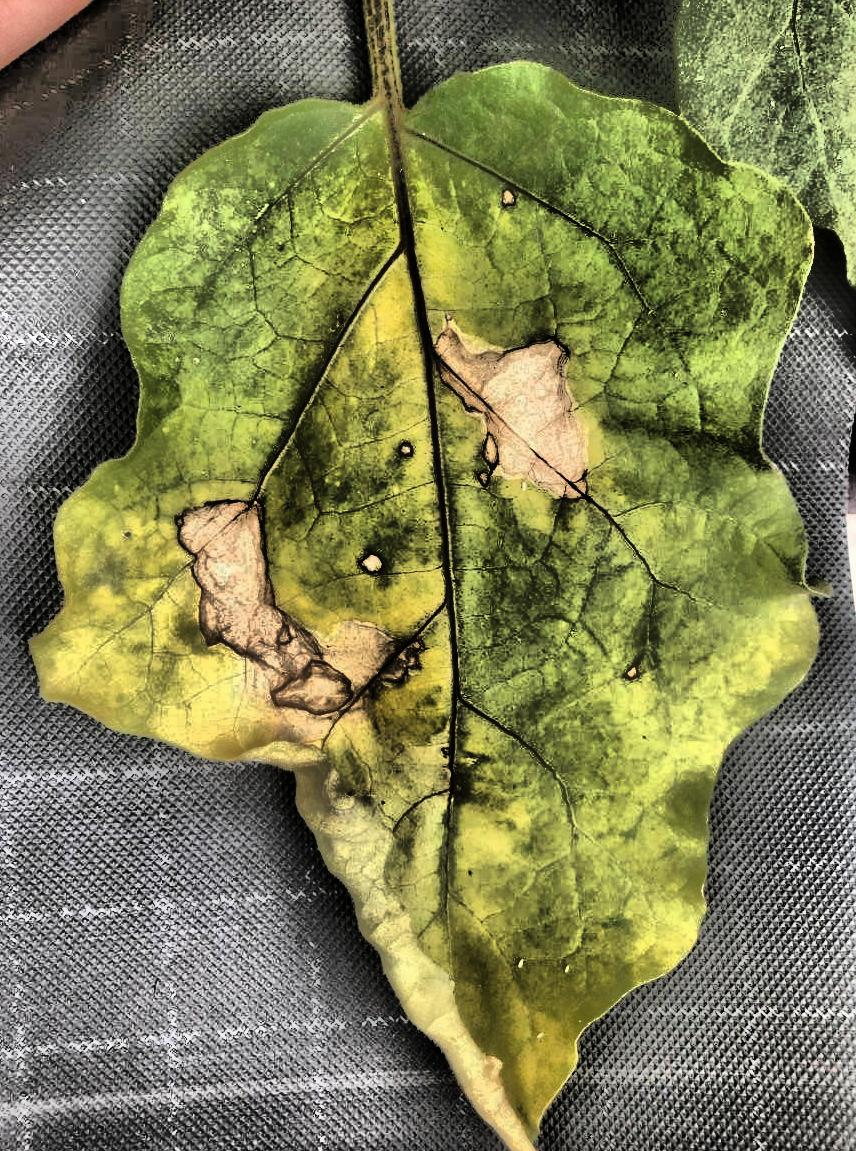Critical Stress: (1, 0, 856, 1151)
